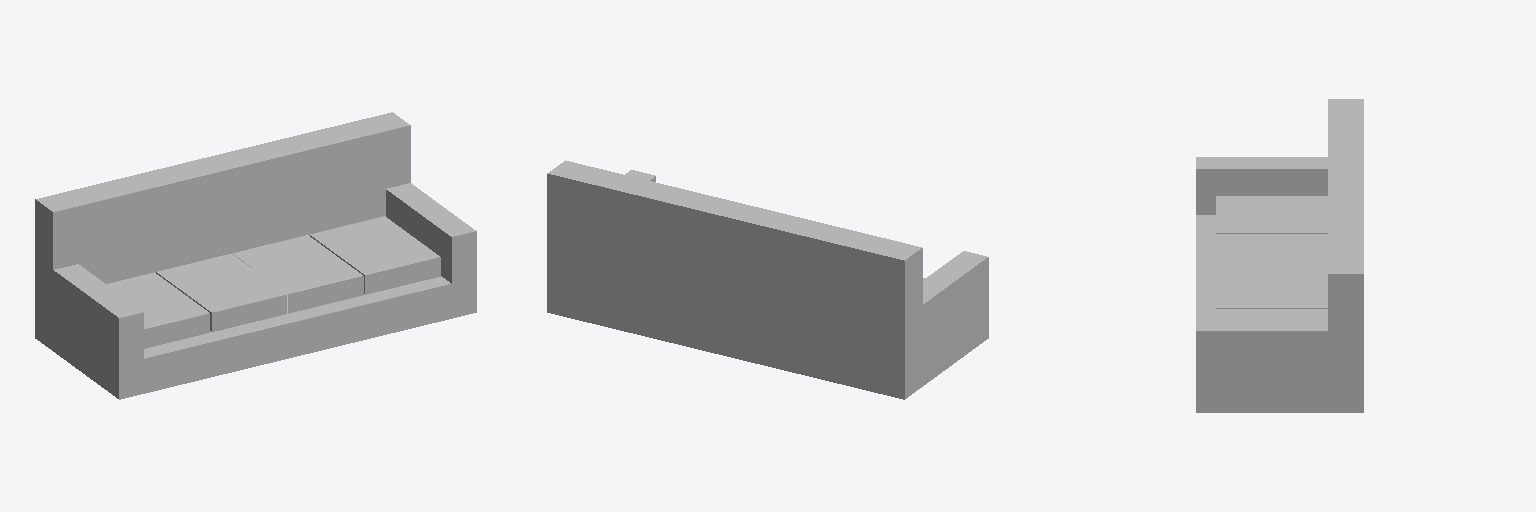
File: sofa_large.obj
The picture shows the model from 3 angles: view 1: azimuth 30°, elevation 25°; view 2: azimuth 150°, elevation 25°; view 3: azimuth 270°, elevation 25°; orthographic projection.
Visible parts, largest first — view 1: Box005; view 2: Box005; view 3: Box005.
Part boxes in pixels (left/top/right/bottom): Box005: left=35, top=112, right=476, bottom=399; Box005: left=547, top=160, right=988, bottom=399; Box005: left=1196, top=99, right=1363, bottom=412.
Size of the model in its own units: 211 by 78.45 by 85.71.